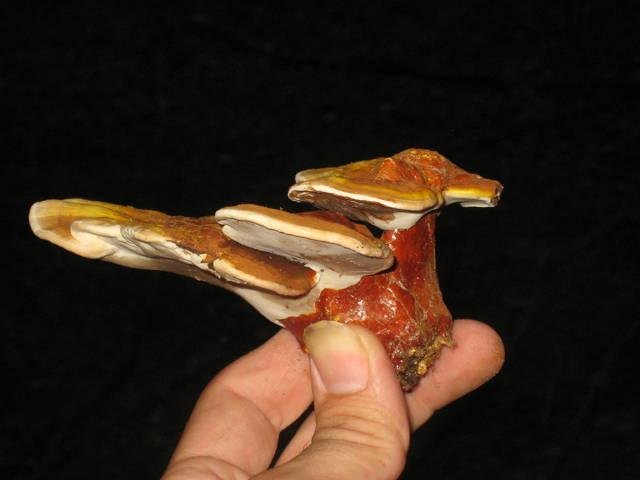Non-edible Mushroom: (27, 145, 504, 397)
